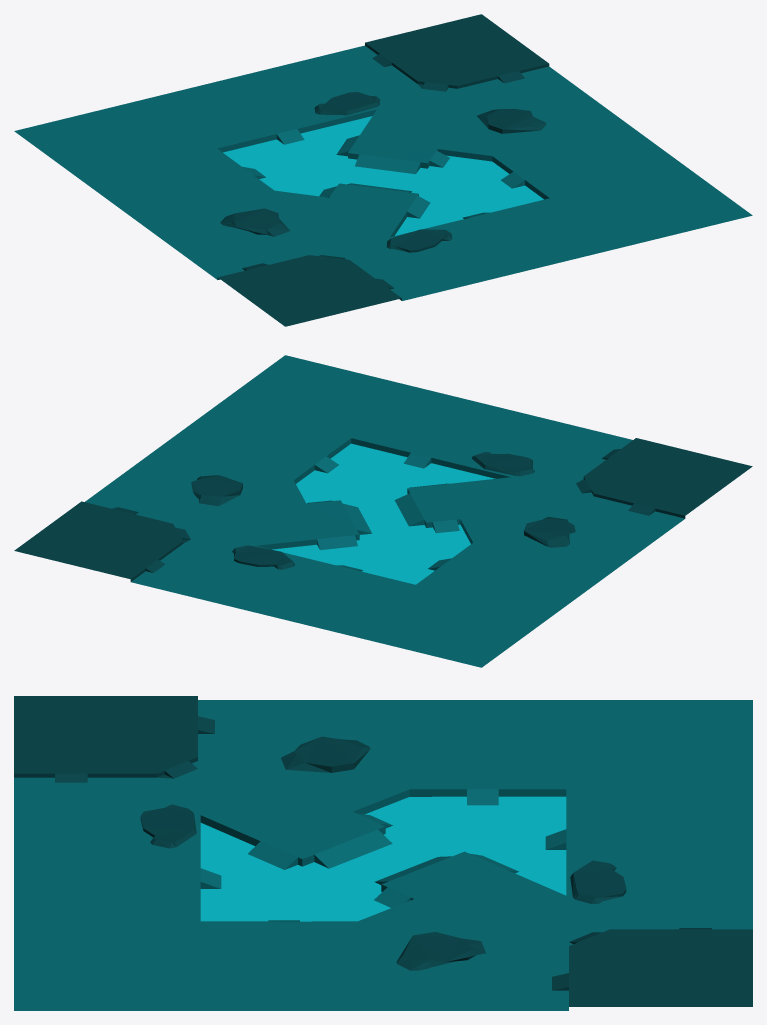
The model's file is Amobus_plain.fbx.
The picture shows the model from 3 angles, top to bottom: view 1: azimuth 30°, elevation 25°; view 2: azimuth 150°, elevation 25°; view 3: azimuth 270°, elevation 25°; orthographic projection. The views are drawn at different scales.
Visible parts, largest first — view 1: 2.002; view 2: 2.002; view 3: 2.002.
Boxes of the visible parts, x1,y1,x2,y2 form: 2.002: [14, 14, 752, 326]; 2.002: [14, 355, 752, 667]; 2.002: [14, 696, 752, 1010].
Size of the model in its own units: 4036 by 81.73 by 4055.
